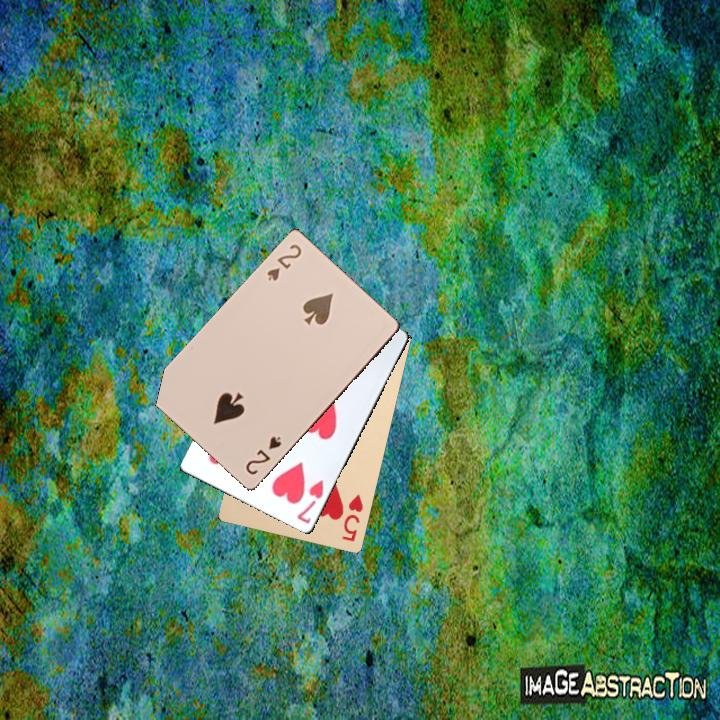2s: (241, 432, 284, 477), (263, 240, 304, 283)
5h: (338, 490, 366, 544)
7h: (293, 475, 326, 526)
